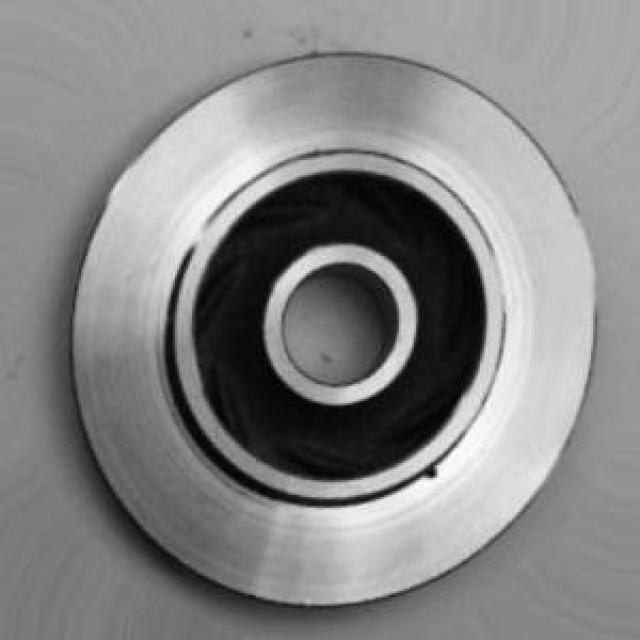Defect: (420, 462, 445, 485)
